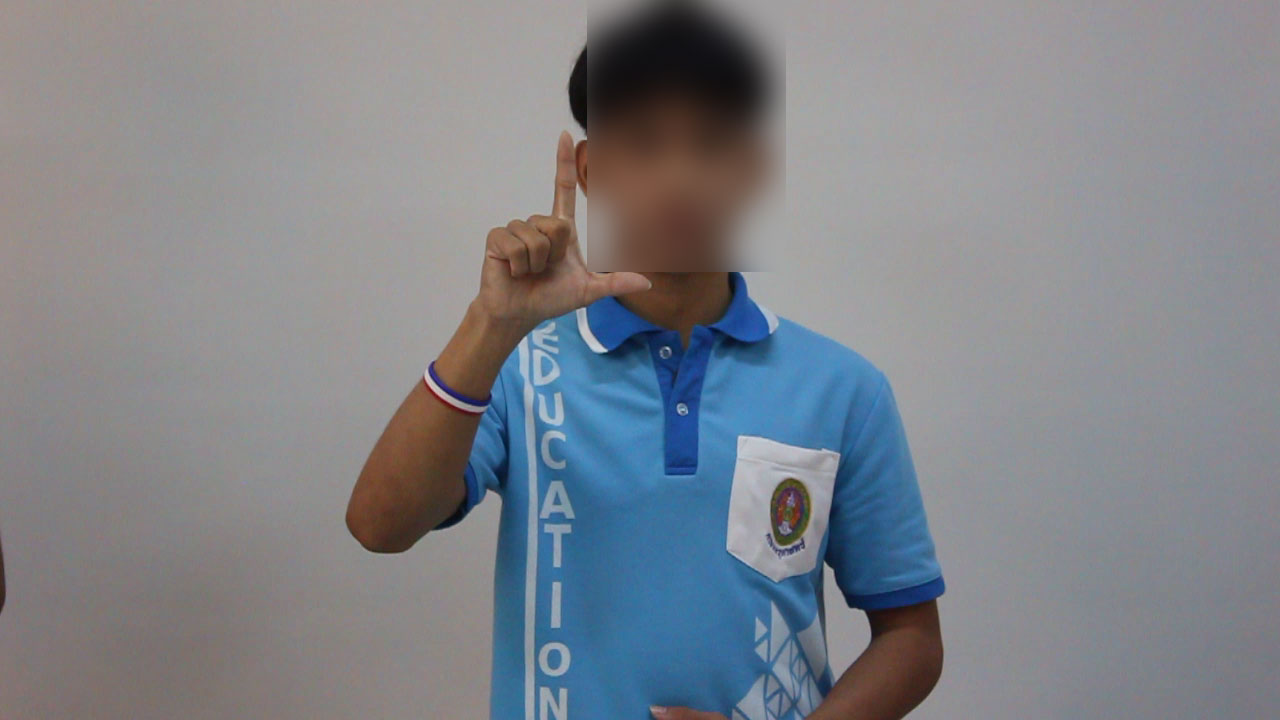lor: (450, 104, 672, 364)
